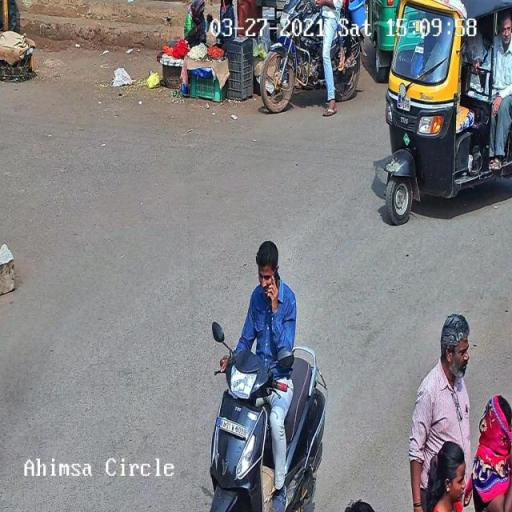using mobile: (260, 257, 285, 297)
